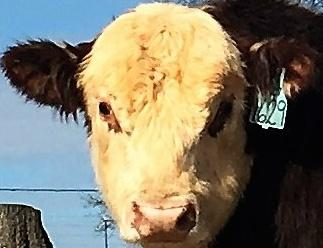muzzles: (116, 195, 208, 246)
